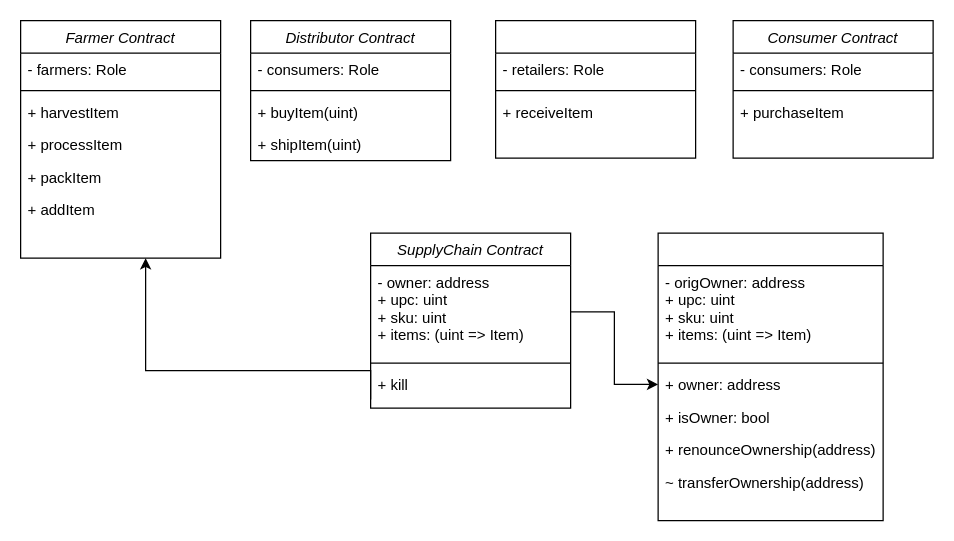
Some shapes in this 954 by 541 pixel diagram are drawn without their labels. Here are the shapes that lost their labels. From the top down, the box of each, then its label:
(494, 19, 696, 158): Retailer Contract
(657, 232, 883, 521): Ownable Contract
